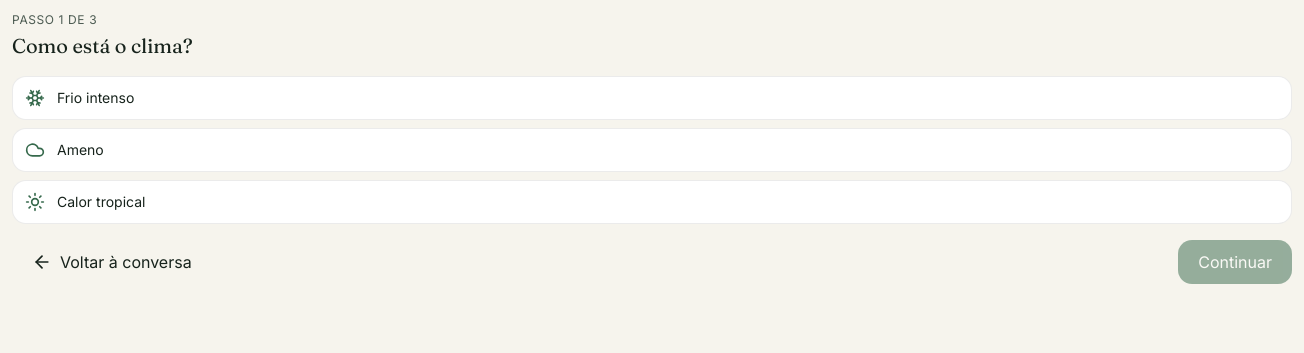
trilha de descoberta do Nez › o último passo exige uma família ou o DNA para pedir a curadoria
The image size is (1304, 353).
Click the button "Frio intenso" at (96, 98), box [12,76,1292,120]
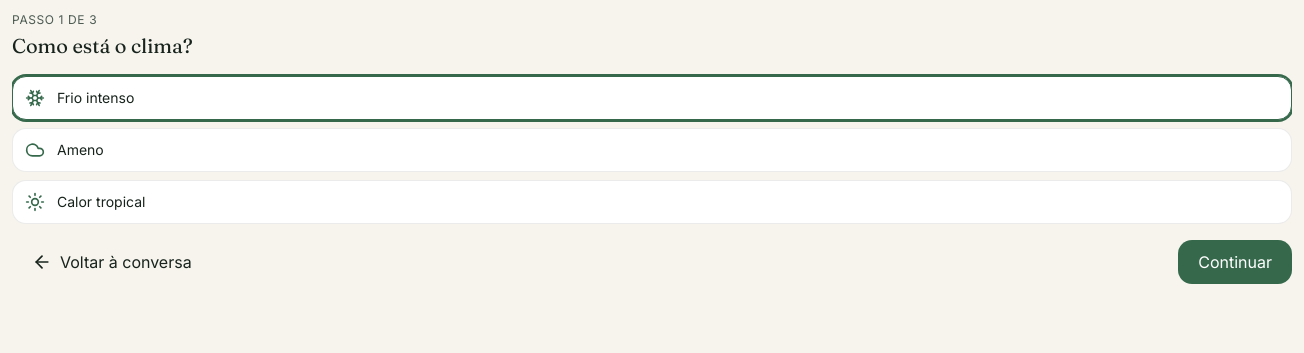
Click the button "Continuar" at (1235, 262), box [1178,240,1292,284]
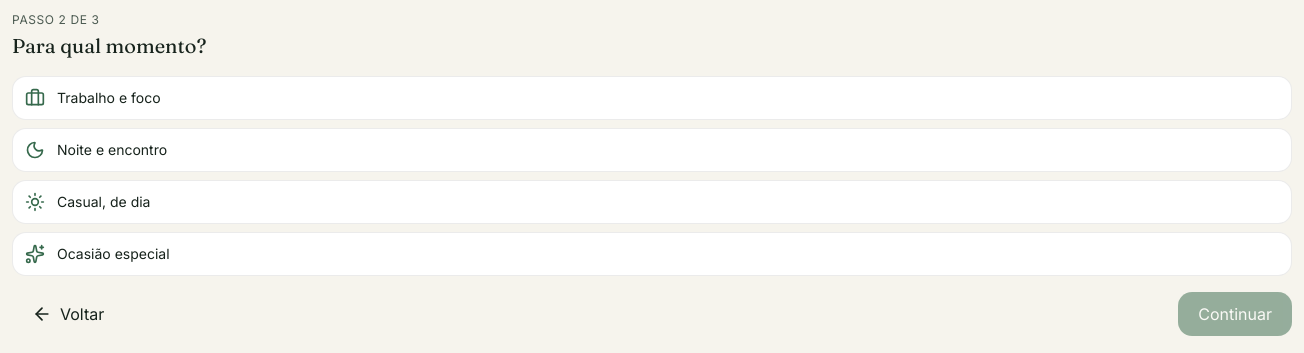
Click the button "Trabalho e foco" at (109, 98), box [12,76,1292,120]
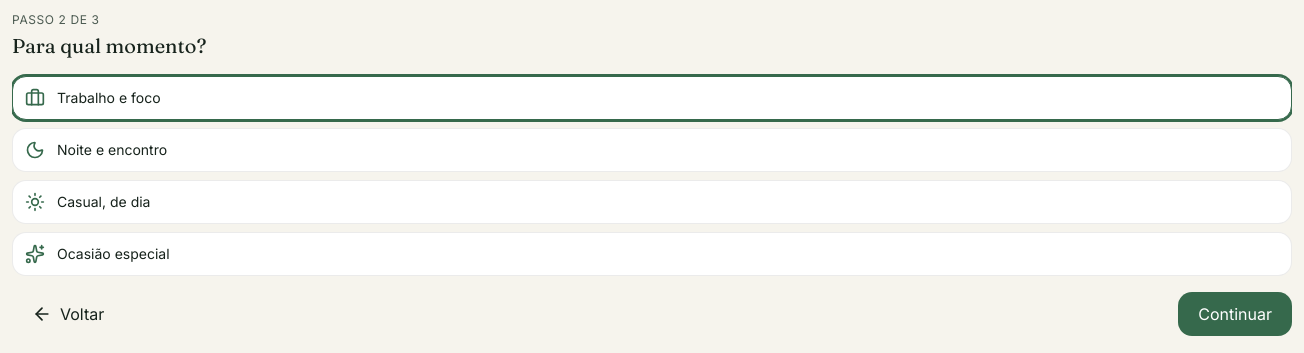
Click the button "Continuar" at (1235, 314), box [1178,292,1292,336]
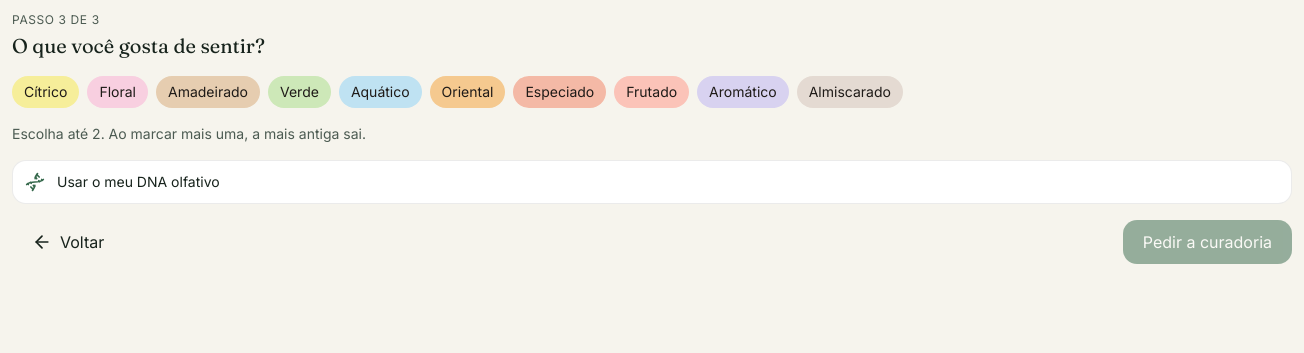
Now the text "Passo 3 de 3" is shown, box [12,12,100,27]
Now the button "Pedir a curadoria" is disabled, box [1123,220,1292,264]
Click the button "Usar o meu DNA olfativo" at (138, 182), box [12,160,1292,204]
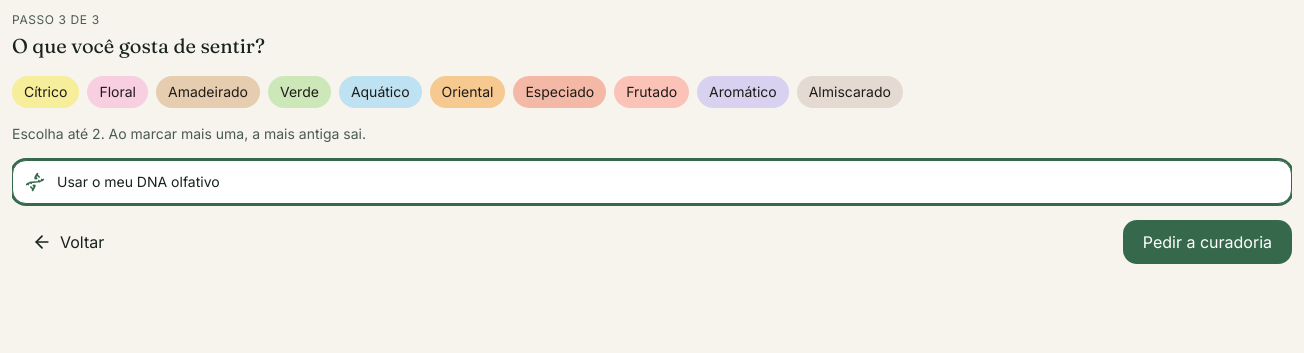
Now the button "Pedir a curadoria" is enabled, box [1123,220,1292,264]
